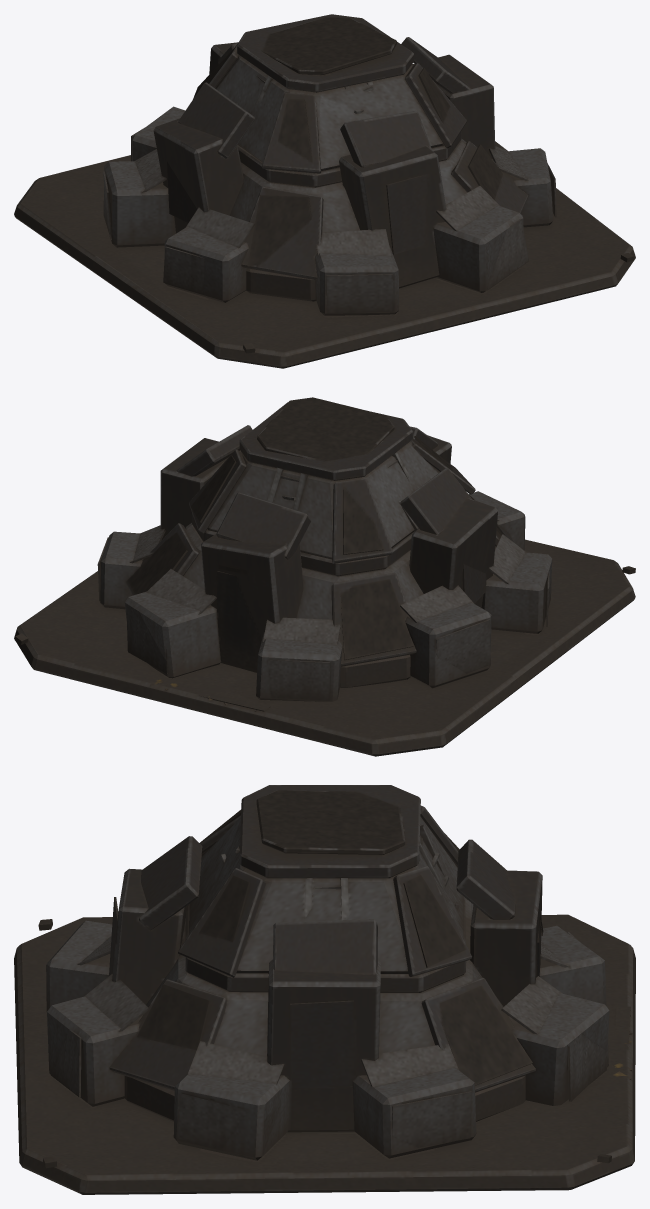
File: chs_accumulator_wreck.fbx
3 renders of one model, top to bottom at view 1: azimuth 30°, elevation 25°; view 2: azimuth 150°, elevation 25°; view 3: azimuth 270°, elevation 25°, orthographic. The views are drawn at different scales.
Visible parts, largest first — view 1: base_bar; view 2: base_bar; view 3: base_bar.
Part boxes in pixels (box(x1,y1,x2,y2)): base_bar: box(14, 14, 635, 368); base_bar: box(14, 397, 635, 756); base_bar: box(14, 785, 635, 1194).
Size of the model in its own units: 1565 by 882 by 1558.
2 materials, 2 textured.
